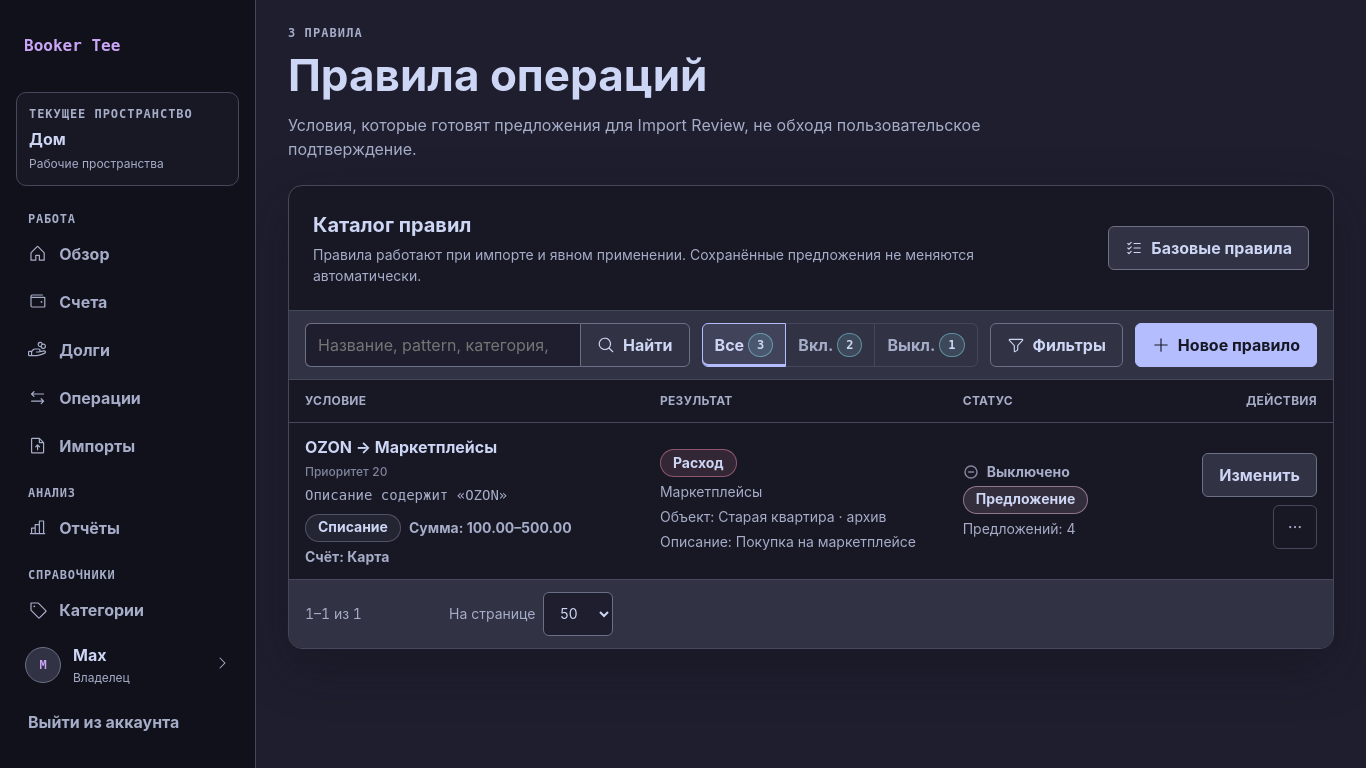
Test: TransactionRulesPage › explains why a rule with an archived target cannot be enabled
Click the button named "Ещё действия" at (1295, 527), box [1273,505,1317,549]
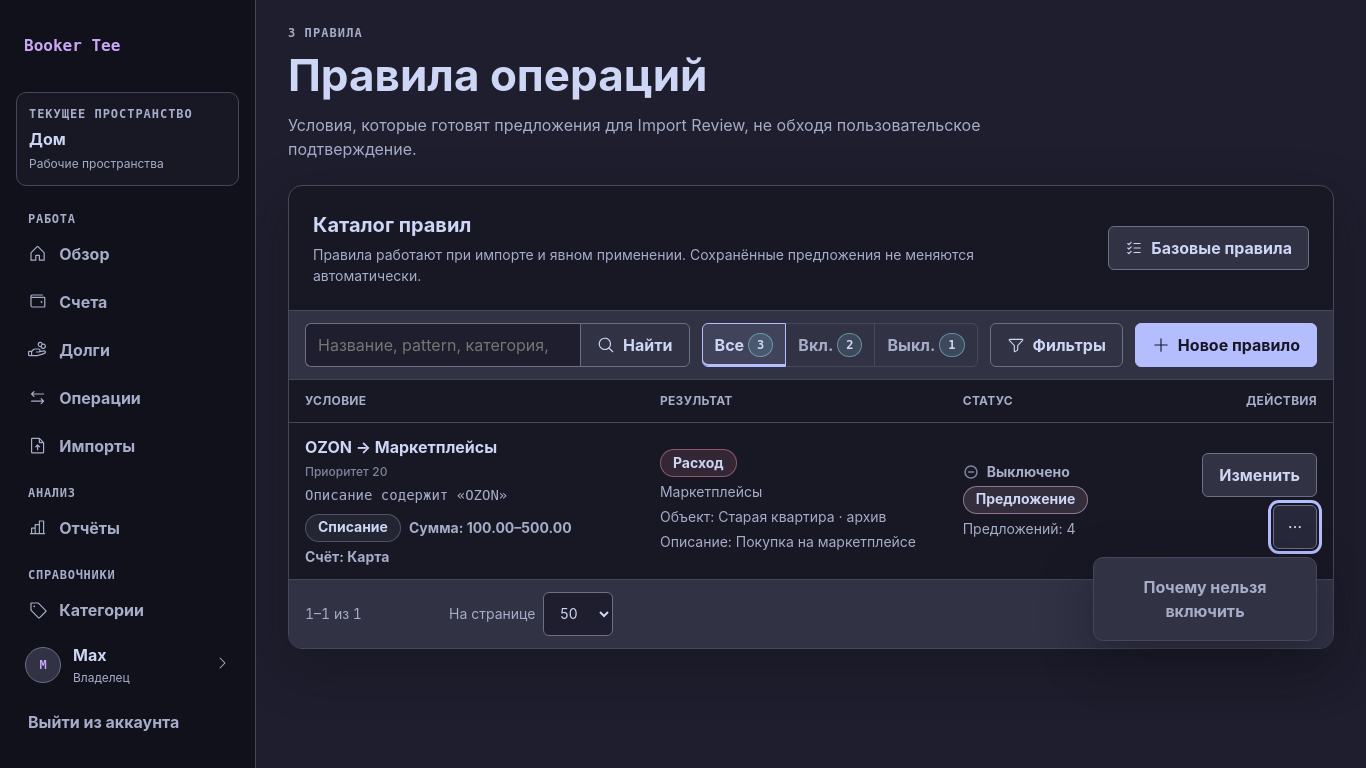
Click the button "Почему нельзя включить" at (1205, 599), box [1102,566,1308,632]
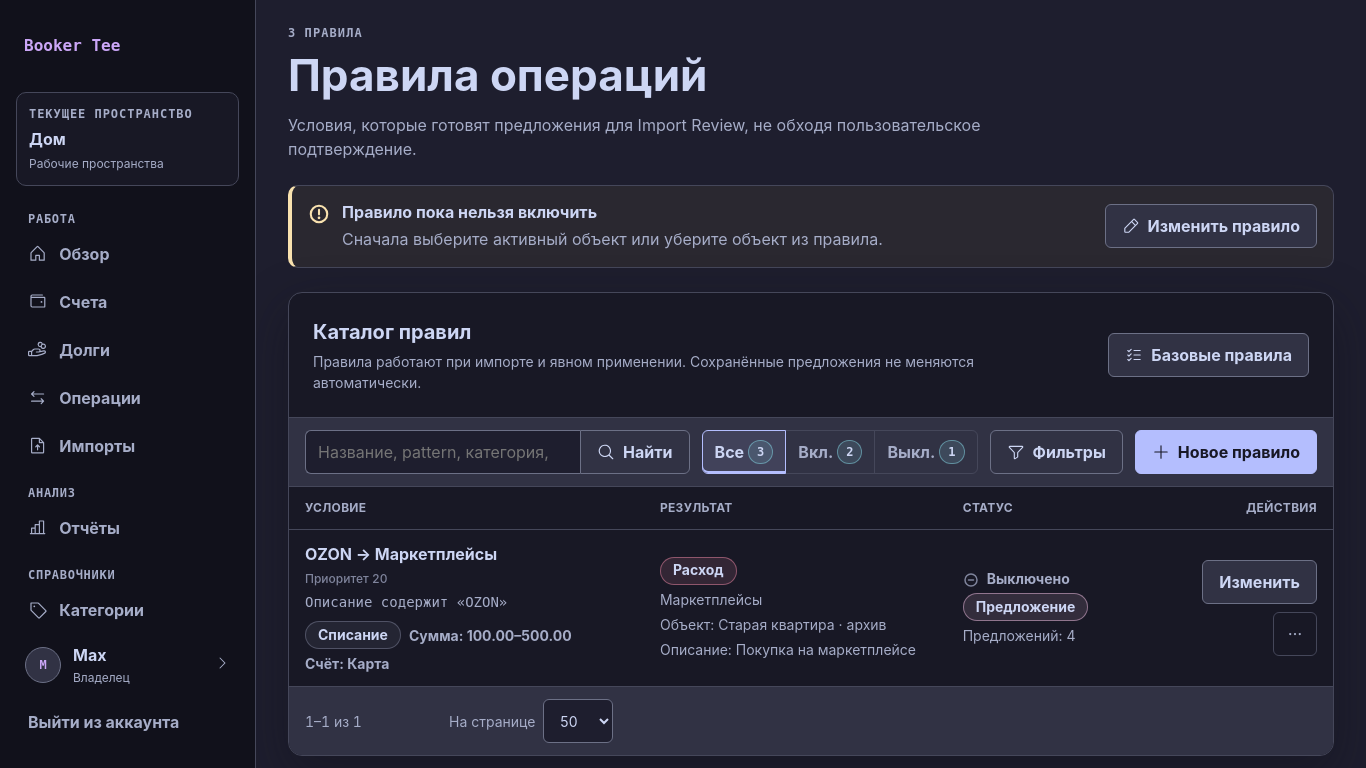
Check: the text "Правило пока нельзя включить" is shown, box [342,202,597,222]
Check: the text "Сначала выберите активный объект или уберите объект из правила." is shown, box [342,229,883,249]
Check: the button "Изменить правило" is shown, box [1105,204,1317,248]
